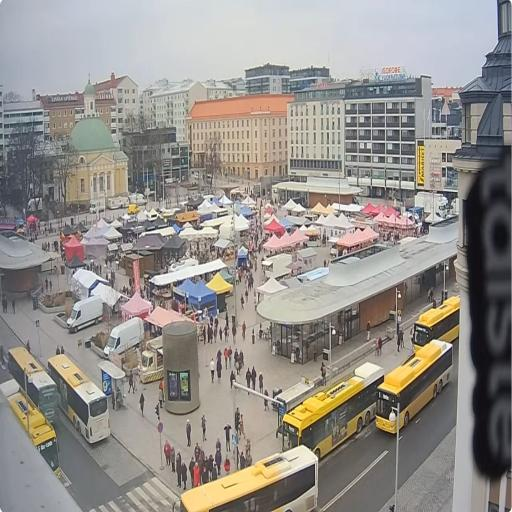bus: (281, 361, 383, 457), (179, 446, 319, 511), (376, 336, 454, 433), (51, 353, 109, 441), (2, 375, 58, 453), (9, 348, 57, 420), (412, 294, 462, 350)
delivery: (107, 319, 144, 363), (67, 297, 102, 332), (141, 338, 164, 376)
